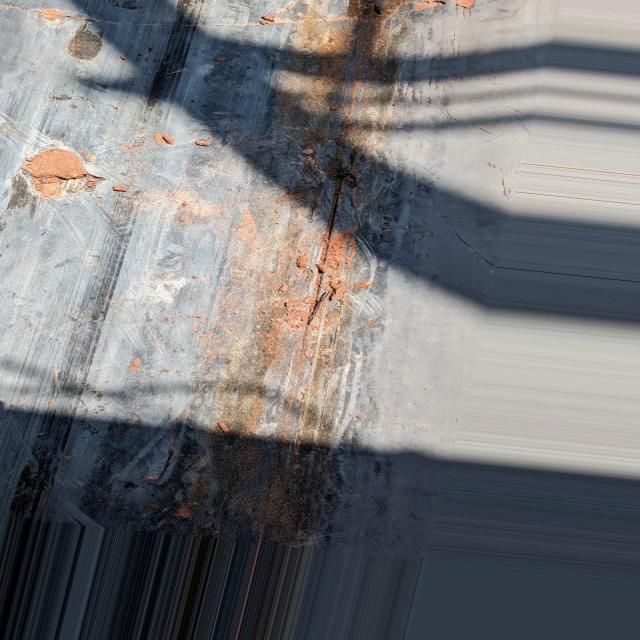impact damage: (199, 0, 418, 535)
